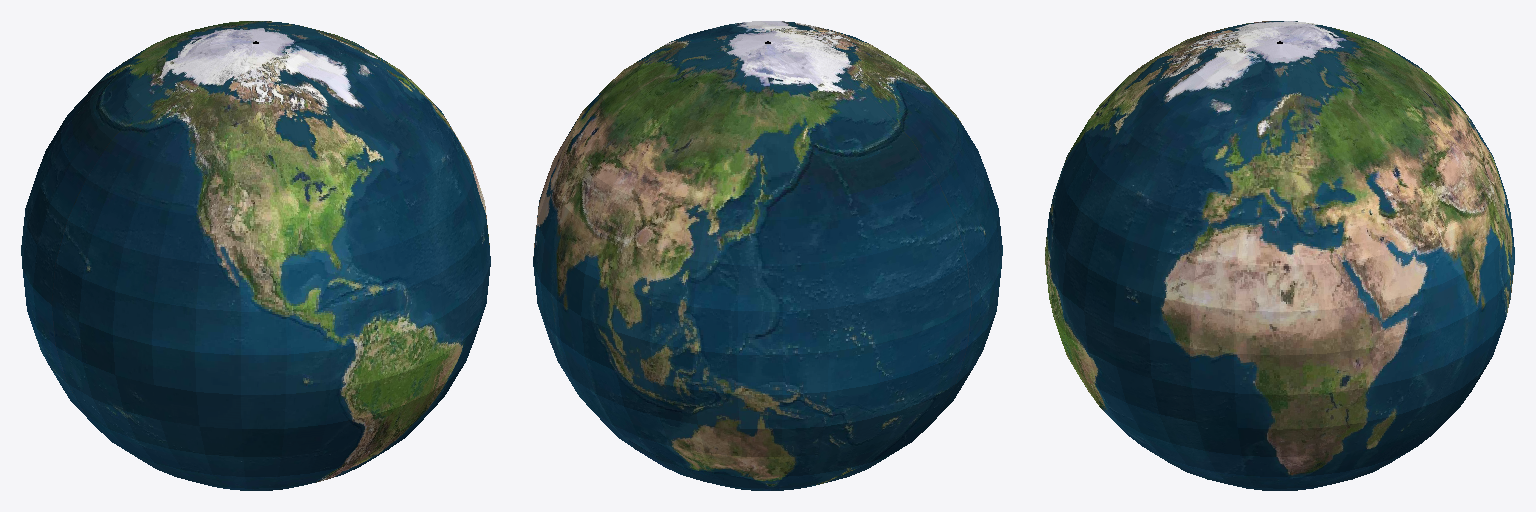
3 views of the same model, side by side, from view 1: azimuth 30°, elevation 25°; view 2: azimuth 150°, elevation 25°; view 3: azimuth 270°, elevation 25° (orthographic).
Visible parts, largest first — view 1: 球体; view 2: 球体; view 3: 球体.
Boxes of the visible parts, x1=… form: 球体: x1=21, y1=21, x2=490, y2=490; 球体: x1=533, y1=21, x2=1002, y2=490; 球体: x1=1045, y1=21, x2=1514, y2=490.
Bounding box in the file's own units: 2 × 2 × 2.
1 materials, 1 textured.